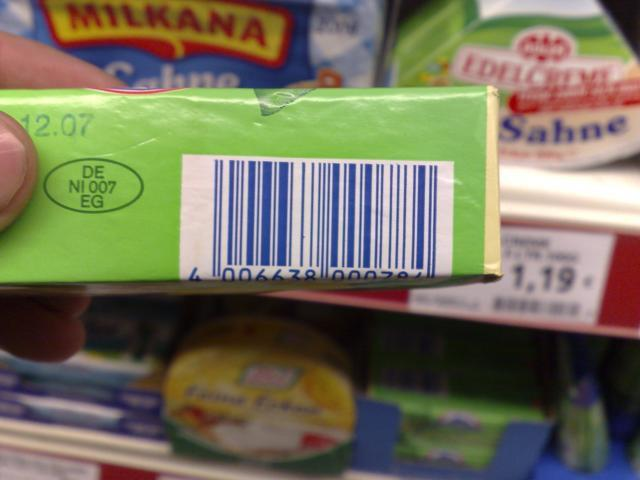Barcode: (183, 155, 454, 294)
